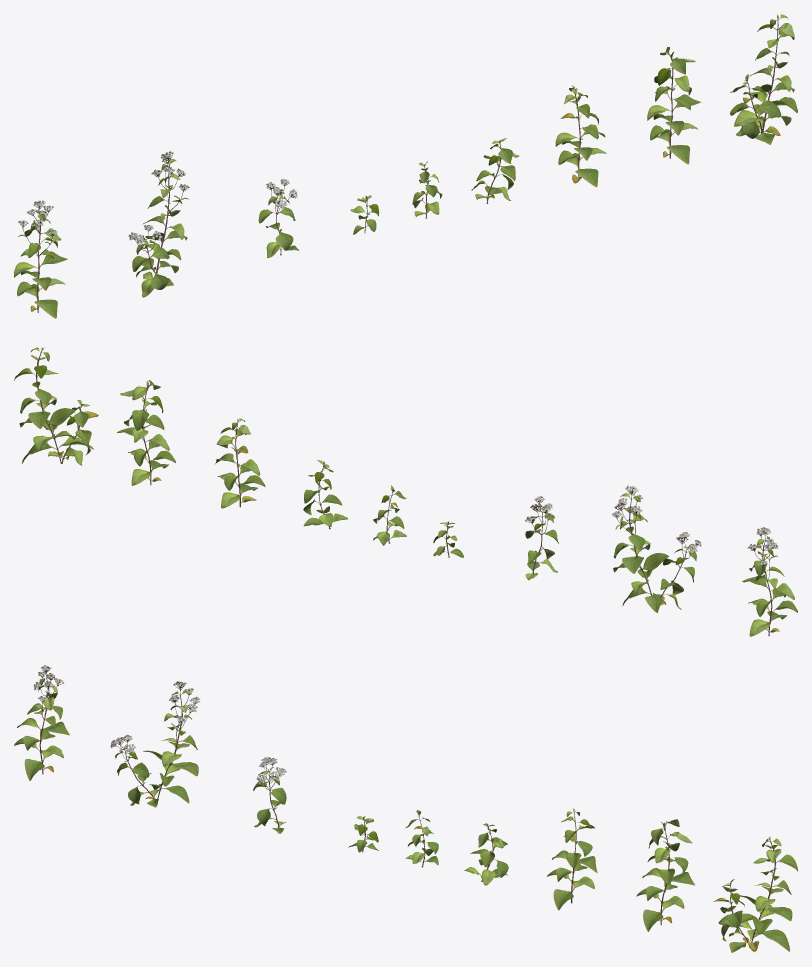
Rendered from shrub_01_1k.gltf.
The picture shows the model from 3 angles, top to bottom: view 1: azimuth 30°, elevation 25°; view 2: azimuth 150°, elevation 25°; view 3: azimuth 330°, elevation 25°; orthographic projection. The views are drawn at different scales.
Parts seen in each view (by area): view 1: shrub_01_a; view 2: shrub_01_a; view 3: shrub_01_a.
Boxes of the visible parts, x1,y1,x2,y2 form: shrub_01_a: [14, 14, 797, 318]; shrub_01_a: [14, 347, 797, 636]; shrub_01_a: [14, 665, 797, 952].
Size of the model in its own units: 2.59 by 0.396 by 0.2185.
Materials: 1 (1 with a texture image).
